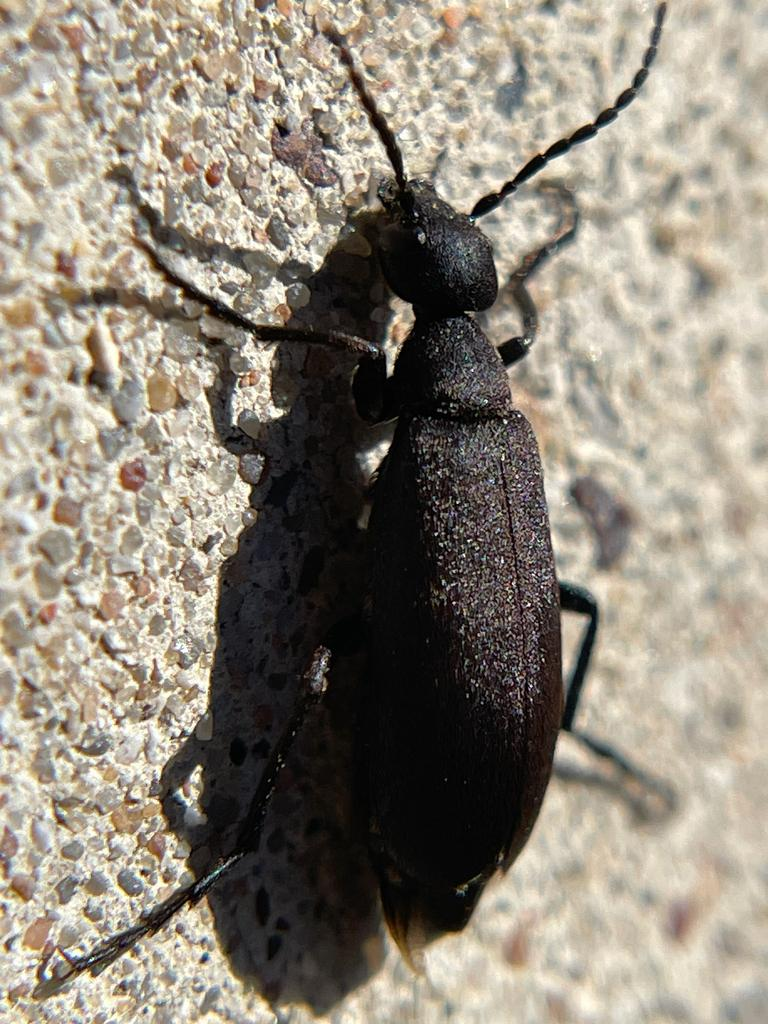blister_beetle: (0, 2, 768, 1024)
